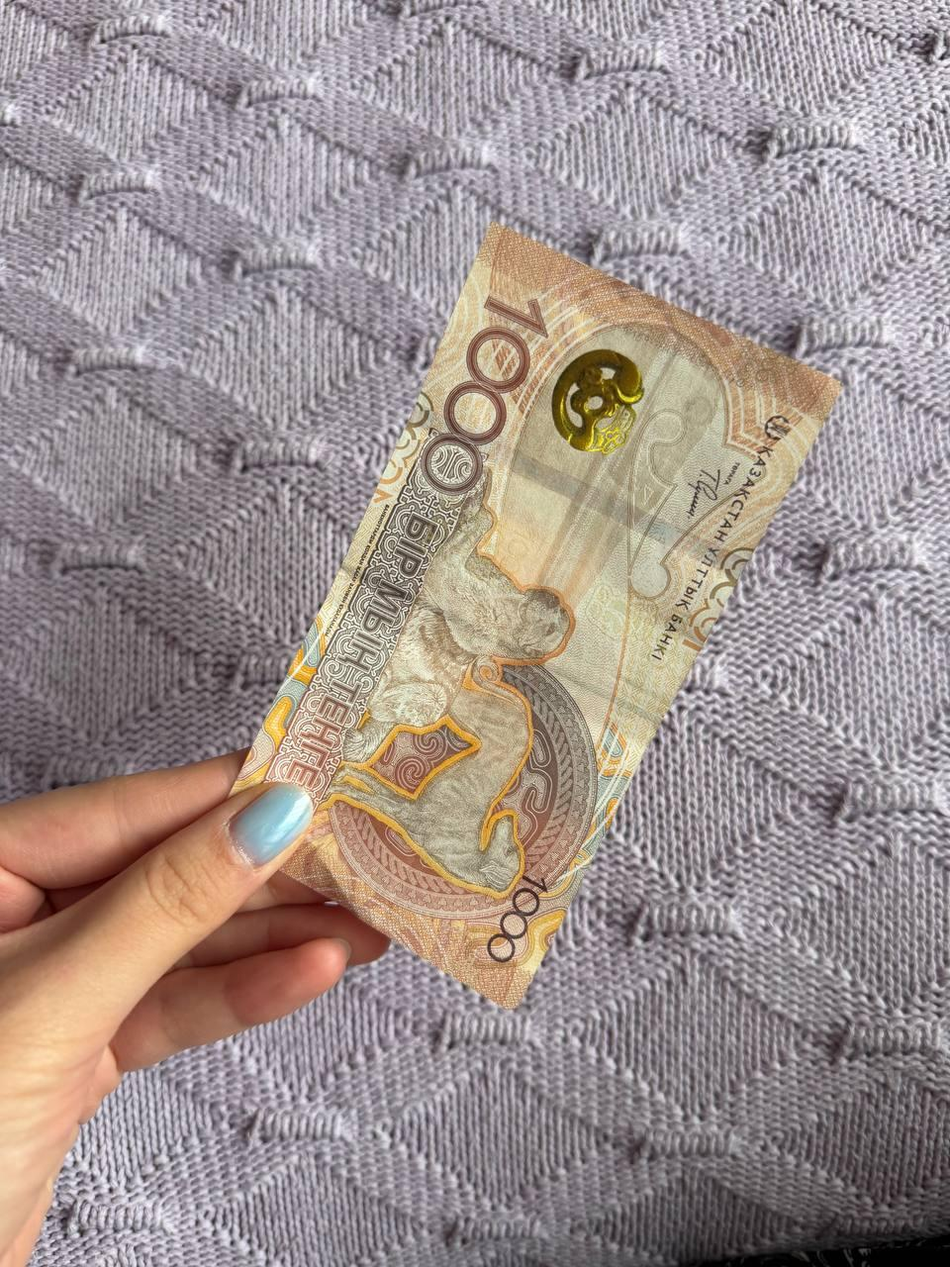cash_stack: (224, 210, 847, 1019)
